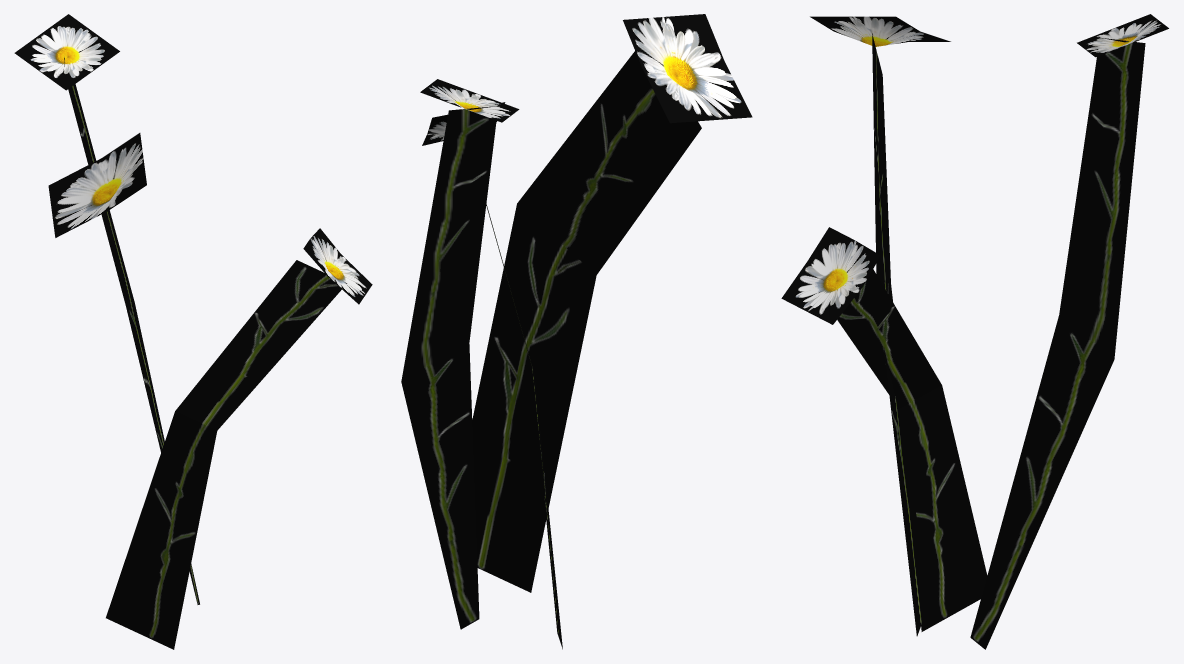
The model's file is 08_Leucanthemum_vulgare_02_small_001.fbx.
3 views of the same model, side by side, from view 1: azimuth 30°, elevation 25°; view 2: azimuth 150°, elevation 25°; view 3: azimuth 270°, elevation 25° (orthographic). The views are drawn at different scales.
Parts seen in each view (by area): view 1: 08_Leucanthemum_vulgare_02_small.001; view 2: 08_Leucanthemum_vulgare_02_small.001; view 3: 08_Leucanthemum_vulgare_02_small.001.
Boxes of the visible parts, x1,y1,x2,y2 form: 08_Leucanthemum_vulgare_02_small.001: (14,14,372,649); 08_Leucanthemum_vulgare_02_small.001: (401,14,752,649); 08_Leucanthemum_vulgare_02_small.001: (781,14,1168,649).
Bounding box in the file's own units: 0.0998 × 0.1738 × 0.1006.
